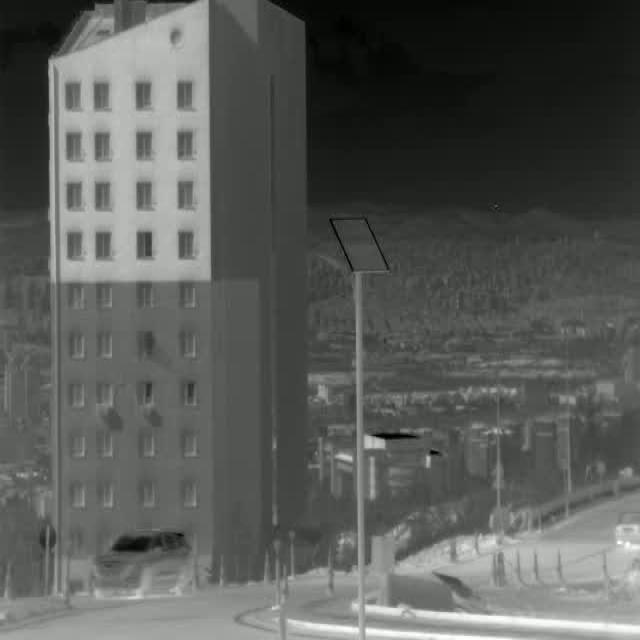Car: (86, 528, 196, 596), (609, 504, 640, 544)
